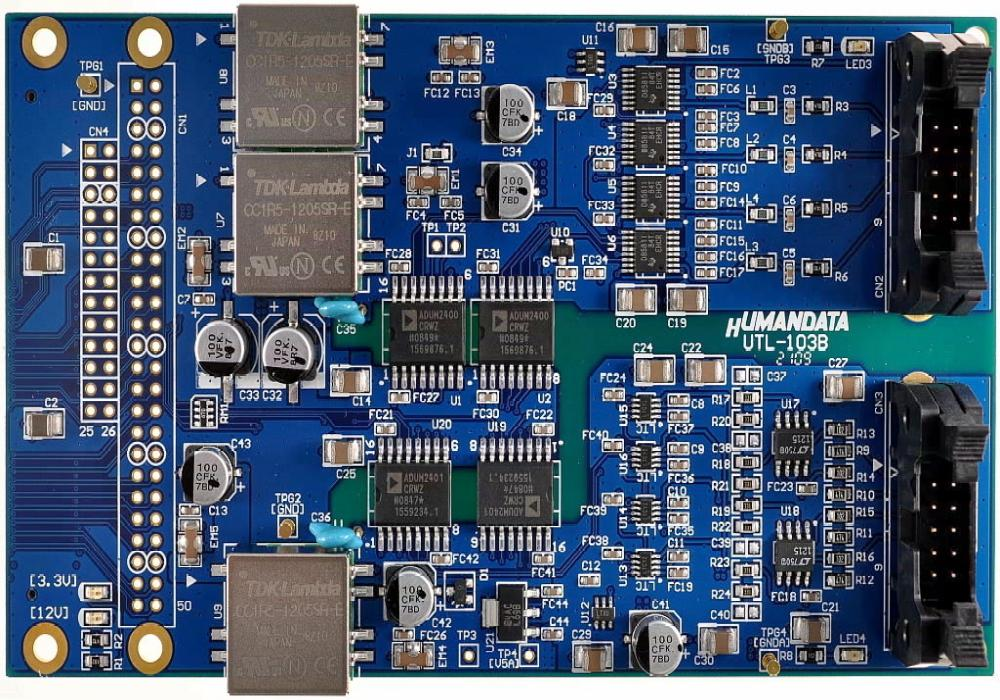Connector P: (791, 615, 830, 644), (688, 357, 725, 384), (801, 196, 834, 221), (801, 256, 833, 281), (801, 142, 834, 166), (801, 94, 834, 118), (802, 36, 833, 58), (748, 145, 776, 164), (826, 420, 853, 439), (748, 254, 775, 272), (422, 145, 450, 162), (749, 98, 776, 115), (734, 389, 761, 406), (749, 206, 775, 223), (827, 507, 852, 524), (827, 572, 852, 589), (827, 464, 852, 481), (827, 529, 852, 546), (84, 653, 109, 670), (741, 366, 762, 386), (827, 550, 851, 567), (827, 486, 851, 503), (805, 200, 829, 217), (827, 443, 852, 459), (84, 632, 109, 648), (805, 98, 829, 114), (735, 584, 759, 599), (805, 261, 828, 276), (736, 477, 759, 491), (735, 563, 758, 577), (736, 412, 759, 426), (800, 648, 823, 662), (735, 520, 759, 533), (736, 499, 759, 512), (736, 456, 758, 469), (745, 539, 761, 554), (696, 218, 716, 230)
Diode D: (445, 576, 474, 608), (551, 238, 574, 264)
Transformer T: (256, 311, 327, 395), (191, 309, 261, 393), (474, 80, 539, 147), (179, 441, 240, 510), (629, 607, 685, 678), (484, 157, 539, 222), (385, 561, 437, 629), (627, 609, 684, 639), (440, 35, 481, 66), (408, 166, 447, 194), (25, 410, 63, 438), (26, 245, 62, 273), (179, 521, 201, 564), (188, 238, 209, 283), (325, 439, 360, 465), (828, 374, 863, 400), (690, 358, 724, 383), (795, 617, 829, 642), (551, 81, 583, 107), (673, 26, 705, 52), (639, 358, 672, 383), (394, 648, 433, 669), (333, 370, 367, 394), (622, 27, 654, 52), (577, 647, 610, 671), (621, 288, 653, 312), (674, 288, 705, 312), (706, 629, 737, 653), (840, 648, 865, 661), (797, 483, 817, 494), (634, 353, 640, 388), (802, 590, 821, 601), (534, 424, 553, 435), (394, 629, 413, 640), (432, 553, 451, 564), (432, 72, 451, 83), (180, 505, 199, 516), (543, 586, 563, 596), (580, 575, 600, 585), (194, 294, 214, 304), (604, 440, 622, 451), (544, 629, 562, 640), (360, 369, 368, 393), (478, 392, 497, 402), (605, 389, 624, 399), (670, 444, 689, 454), (479, 262, 498, 272), (390, 392, 409, 402), (669, 552, 688, 562), (377, 425, 396, 435), (534, 554, 553, 564), (461, 73, 480, 83), (697, 268, 716, 278), (596, 105, 614, 115), (596, 214, 614, 224), (604, 494, 622, 504), (698, 84, 716, 94), (671, 460, 689, 470), (391, 262, 409, 272), (596, 159, 614, 169), (698, 138, 716, 148), (698, 165, 716, 175), (670, 568, 688, 578), (442, 197, 460, 207), (669, 499, 688, 508), (670, 396, 689, 405), (785, 262, 794, 281), (785, 150, 794, 169), (587, 267, 604, 277), (558, 268, 575, 278), (671, 412, 688, 422), (698, 69, 716, 78), (604, 549, 622, 558), (670, 515, 688, 524), (698, 236, 716, 245), (698, 220, 716, 229), (698, 123, 716, 132), (698, 182, 716, 191), (698, 253, 716, 262), (698, 112, 715, 121), (698, 198, 715, 207), (409, 198, 426, 207), (361, 176, 380, 184), (786, 209, 794, 227), (360, 310, 364, 324)
Transistor Q: (233, 61, 359, 149), (383, 285, 469, 379), (475, 446, 555, 542), (372, 448, 453, 542), (475, 291, 554, 378), (485, 583, 538, 643), (772, 418, 814, 475), (425, 235, 464, 292), (626, 68, 676, 112), (774, 530, 814, 580), (628, 177, 675, 219), (627, 232, 674, 274), (628, 124, 675, 165), (632, 550, 659, 578), (592, 599, 615, 631), (576, 49, 603, 74), (634, 498, 658, 524), (635, 445, 658, 471), (634, 396, 657, 421)
